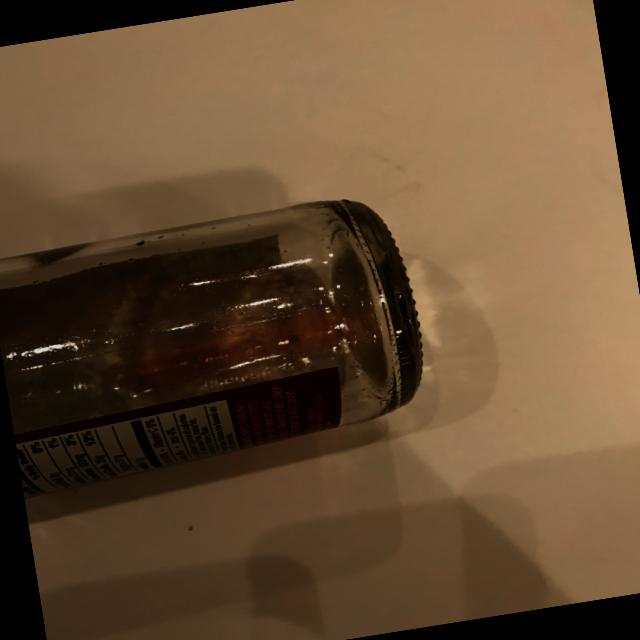Glass: (0, 158, 458, 505)
